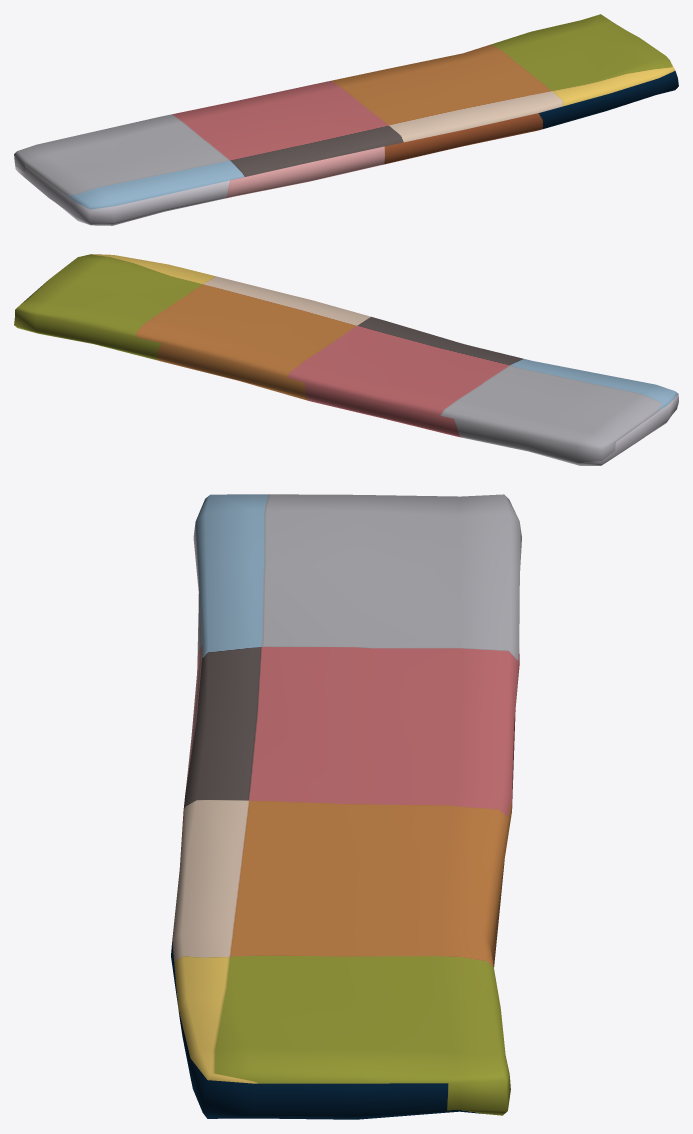
The model's file is Plank.fbx.
3 views of the same model, one above another, from view 1: azimuth 30°, elevation 25°; view 2: azimuth 150°, elevation 25°; view 3: azimuth 270°, elevation 25° (orthographic). The views are drawn at different scales.
Visible parts, largest first — view 1: Plank; view 2: Plank; view 3: Plank.
Boxes of the visible parts, bbox=[...] form: Plank: bbox=[14, 14, 678, 225]; Plank: bbox=[14, 254, 678, 465]; Plank: bbox=[171, 494, 521, 1119].
Bounding box in the file's own units: 471 × 25.43 × 120.
